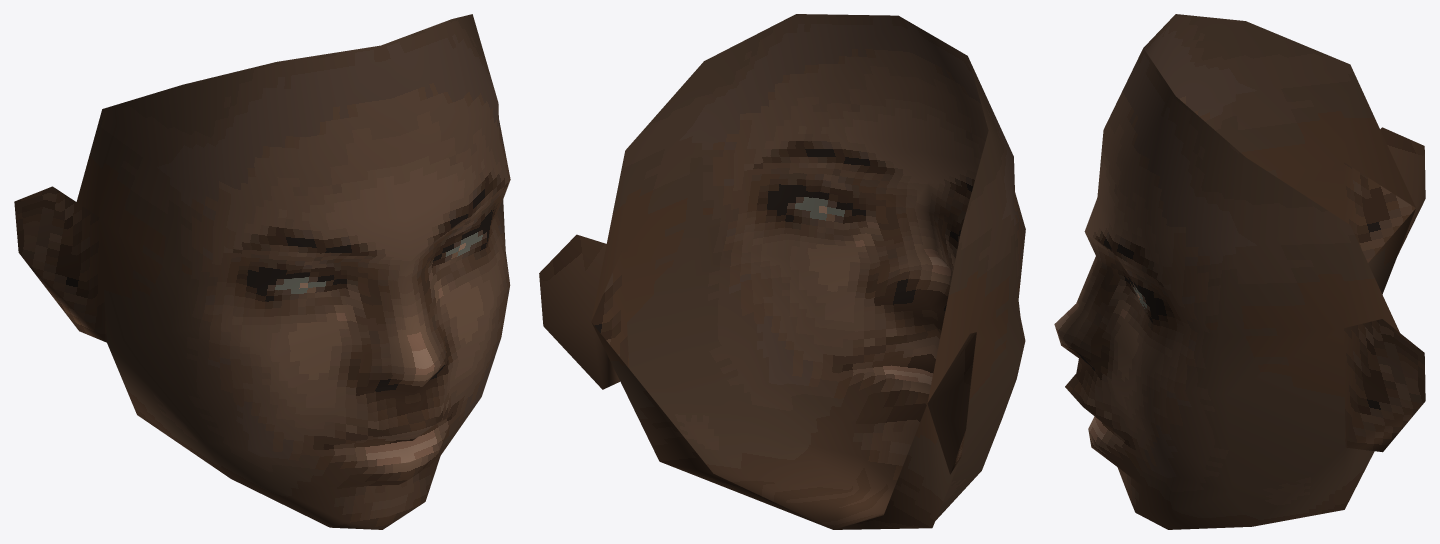
3 views of the same model, side by side, from view 1: azimuth 30°, elevation 25°; view 2: azimuth 150°, elevation 25°; view 3: azimuth 270°, elevation 25° (orthographic). The views are drawn at different scales.
Bounding box in the file's own units: 19.4 × 20.74 × 14.72.
Materials: 1 (1 with a texture image).
